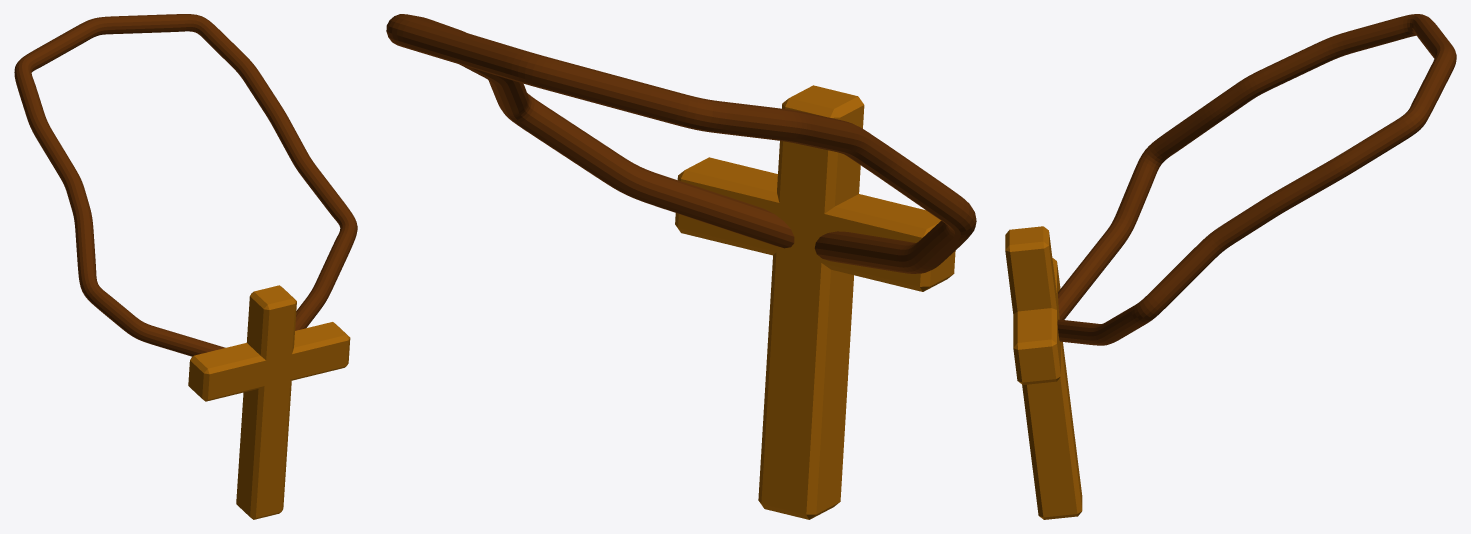
Rendered from Kreuz.fbx.
3 views of the same model, side by side, from view 1: azimuth 30°, elevation 25°; view 2: azimuth 150°, elevation 25°; view 3: azimuth 270°, elevation 25° (orthographic). The views are drawn at different scales.
Visible parts, largest first — view 1: Kette, Kreuz; view 2: Kreuz, Kette; view 3: Kette, Kreuz.
Part boxes in pixels (x1,y1,x2,y2): Kette: (14,14,357,356); Kreuz: (188,285,350,519); Kreuz: (675,85,955,519); Kette: (386,14,976,273); Kette: (1057,14,1456,345); Kreuz: (1005,226,1082,519).
Size of the model in its own units: 198 by 263 by 234.
